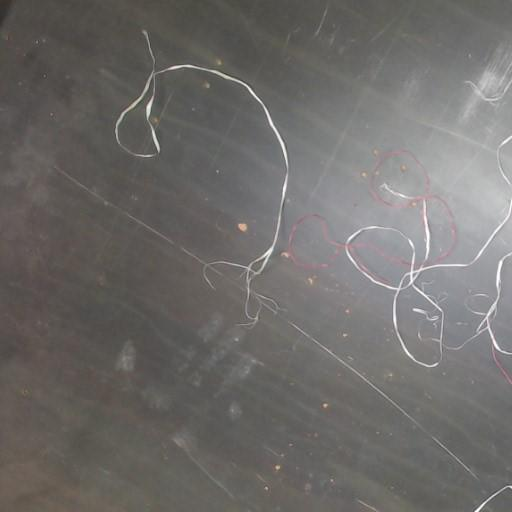conveyor belt: (0, 0, 511, 511), (419, 219, 511, 344)
thread: (115, 30, 511, 385), (473, 484, 511, 511)
